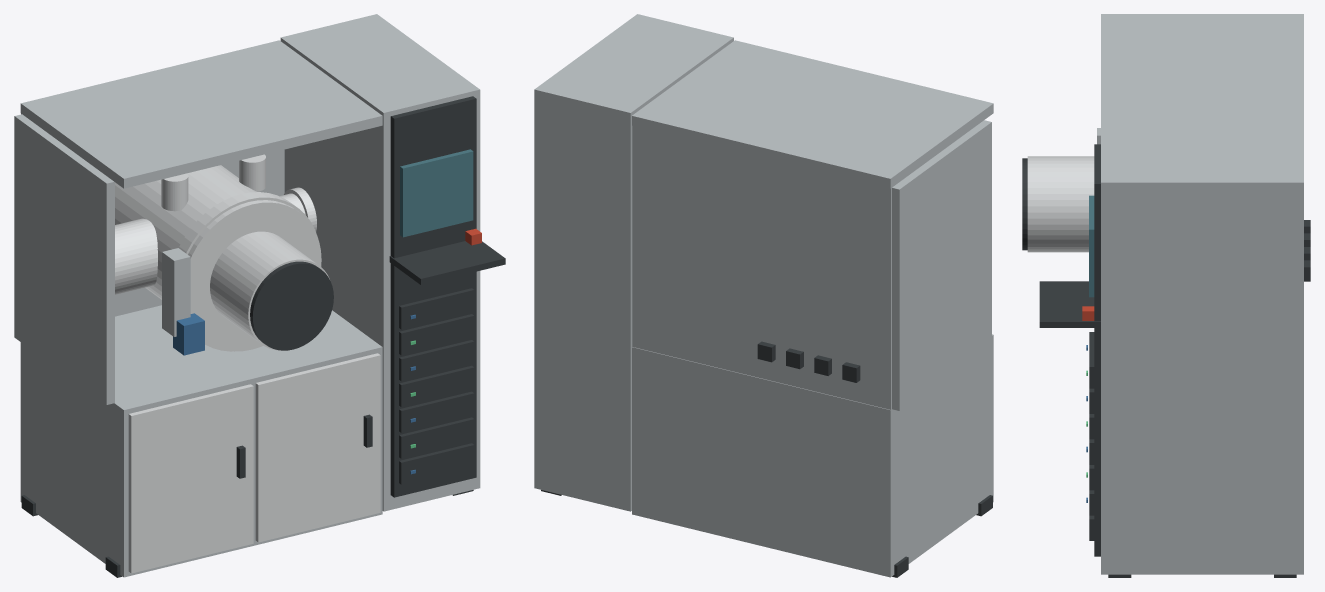
The model's file is nanoquest.glb.
3 views of the same model, side by side, from view 1: azimuth 30°, elevation 25°; view 2: azimuth 150°, elevation 25°; view 3: azimuth 270°, elevation 25° (orthographic).
Parts seen in each view (by area): view 1: Cabinet_base, Electronics_rack, Cabinet_top, Cabinet_left_panel, Lower_access_panel_0, Lower_access_panel_1, Controller_face, Door_plate, Front_black_cap, Chamber_shell, Touchscreen, Front_stage_feedthrough (+15 smaller); view 2: Cabinet_base, Cabinet_back_panel, Electronics_rack, Cabinet_top, Cabinet_left_panel; view 3: Electronics_rack, Cabinet_top, Front_stage_feedthrough, Controller_face, Keyboard_shelf, Touchscreen, Front_black_cap.
Part boxes in pixels (box(x1,y1,x2,y2)): Cabinet_base: box(20, 305, 382, 577); Electronics_rack: box(280, 14, 480, 511); Cabinet_top: box(20, 40, 382, 188); Cabinet_left_panel: box(14, 114, 114, 404); Lower_access_panel_0: box(128, 384, 253, 573); Lower_access_panel_1: box(255, 353, 380, 542); Controller_face: box(390, 96, 476, 497); Door_plate: box(188, 200, 321, 351); Front_black_cap: box(250, 261, 333, 350); Chamber_shell: box(115, 165, 256, 299); Touchscreen: box(400, 149, 473, 237); Front_stage_feedthrough: box(210, 231, 329, 350); Cabinet_base: box(632, 334, 993, 577); Cabinet_back_panel: box(632, 126, 891, 409); Electronics_rack: box(534, 14, 733, 511); Cabinet_top: box(632, 40, 993, 188); Cabinet_left_panel: box(892, 120, 991, 410); Electronics_rack: box(1101, 136, 1303, 574); Cabinet_top: box(1101, 14, 1303, 136); Front_stage_feedthrough: box(1027, 156, 1094, 252); Controller_face: box(1094, 144, 1100, 556); Keyboard_shelf: box(1039, 281, 1100, 327); Touchscreen: box(1089, 195, 1094, 297); Front_black_cap: box(1022, 158, 1027, 250).
Bounding box in the file's own units: 1.55 × 1.64 × 1.08.
